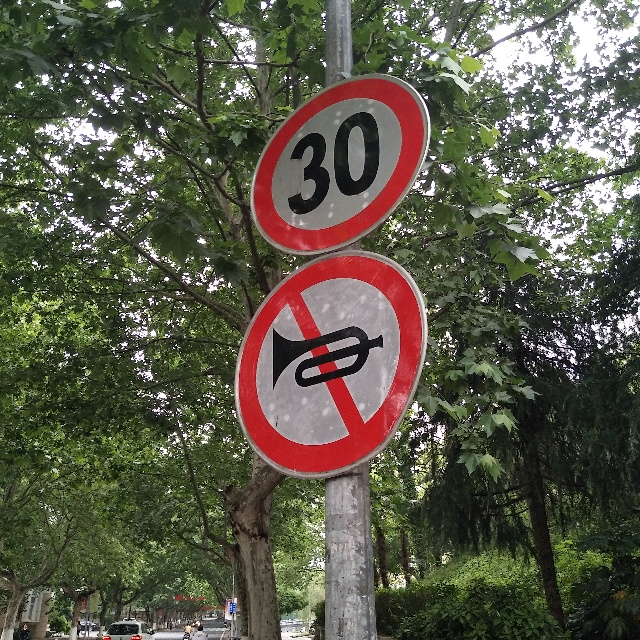nohonk: (234, 246, 431, 484)
